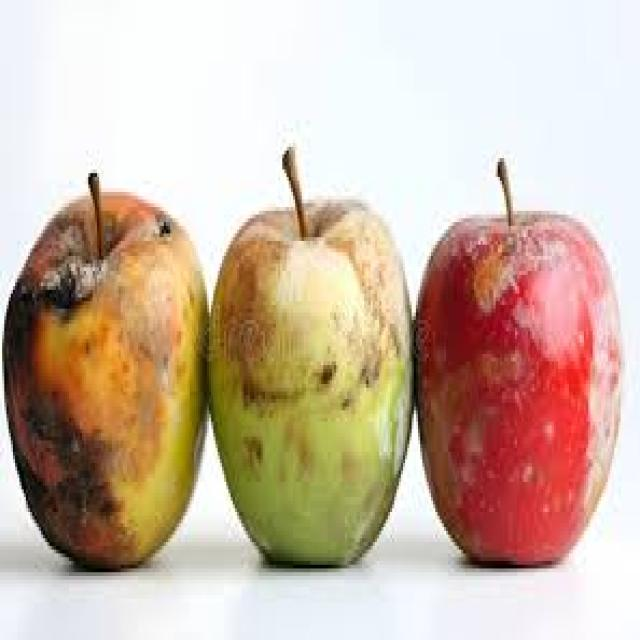Rotten Apple: (5, 189, 209, 574), (416, 213, 621, 574), (212, 201, 409, 570)
